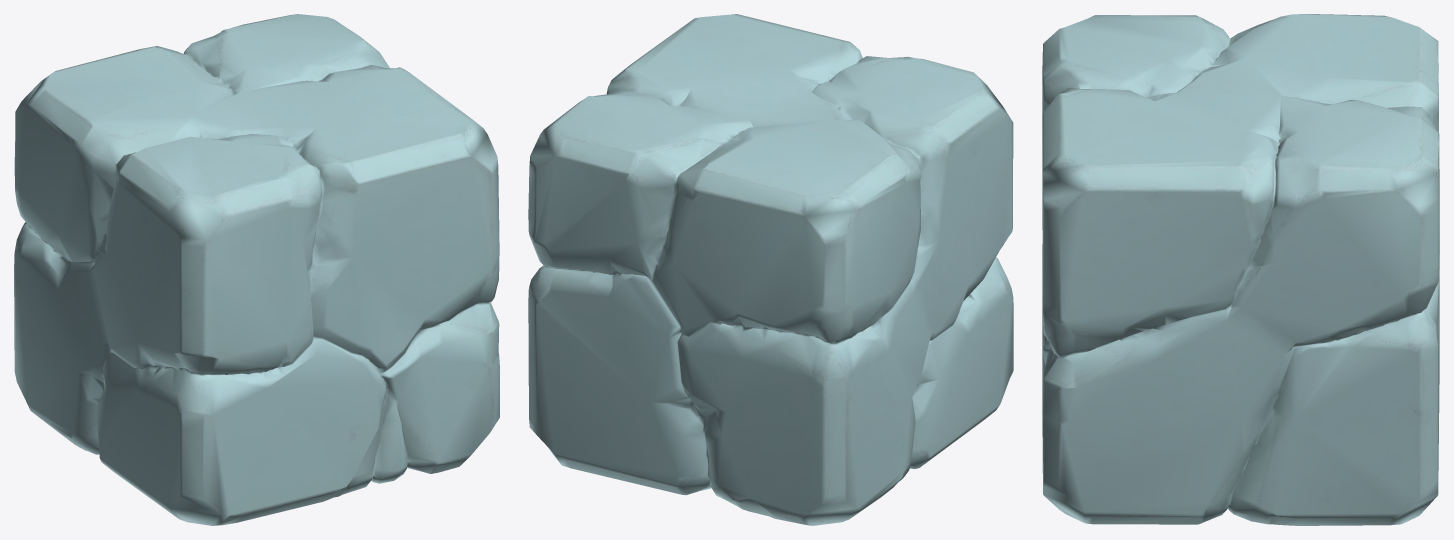
The model's file is original_glb.glb.
The picture shows the model from 3 angles, left to right: view 1: azimuth 30°, elevation 25°; view 2: azimuth 150°, elevation 25°; view 3: azimuth 270°, elevation 25°; orthographic projection. The views are drawn at different scales.
Visible parts, largest first — view 1: tile-2048-crystal; view 2: tile-2048-crystal; view 3: tile-2048-crystal.
Part boxes in pixels (<box>): tile-2048-crystal: <box>14,14,499,525</box>; tile-2048-crystal: <box>528,14,1013,525</box>; tile-2048-crystal: <box>1042,14,1439,525</box>.
Bounding box in the file's own units: 0.998 × 0.998 × 0.998.
1 material, 1 textured.
